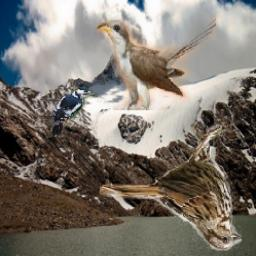Cuckoo: (97, 14, 216, 110)
Sparrow: (100, 126, 242, 252)
Woodpecker: (48, 88, 98, 138)
